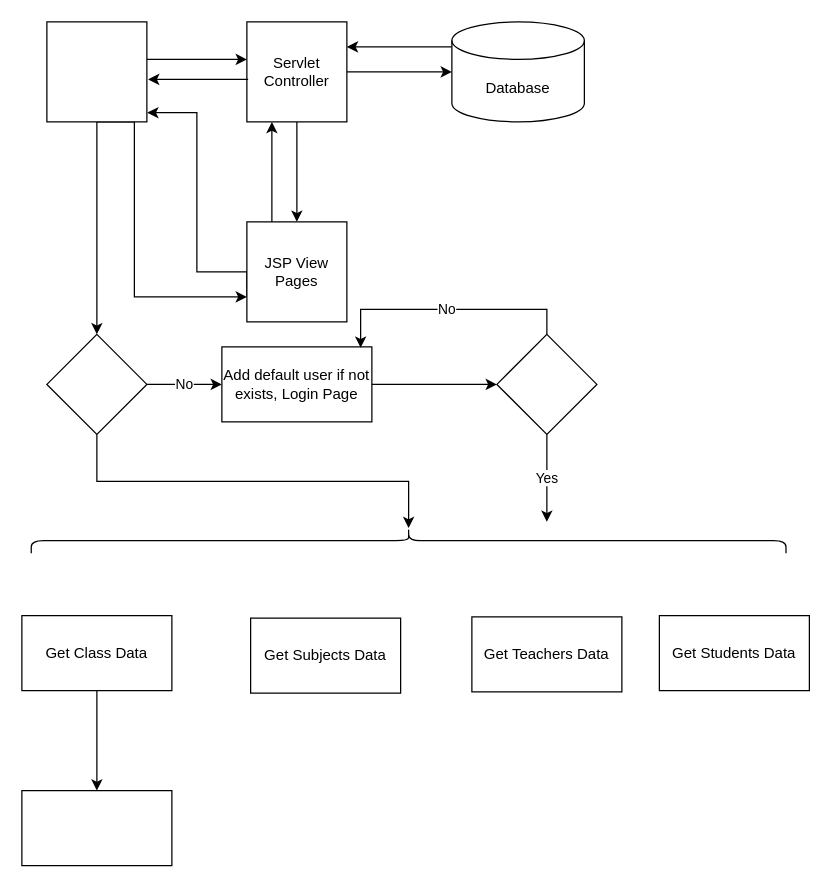
Image size: 831x888. Some labels were removed from this diagram. Here are the shapes that lost their labels. From the top down, the box of each, then its label:
(46, 21, 147, 122): Web Browser
(46, 333, 147, 434): Logined before?
(496, 333, 597, 434): Correct Data?
(21, 789, 172, 866): Get Class Information
